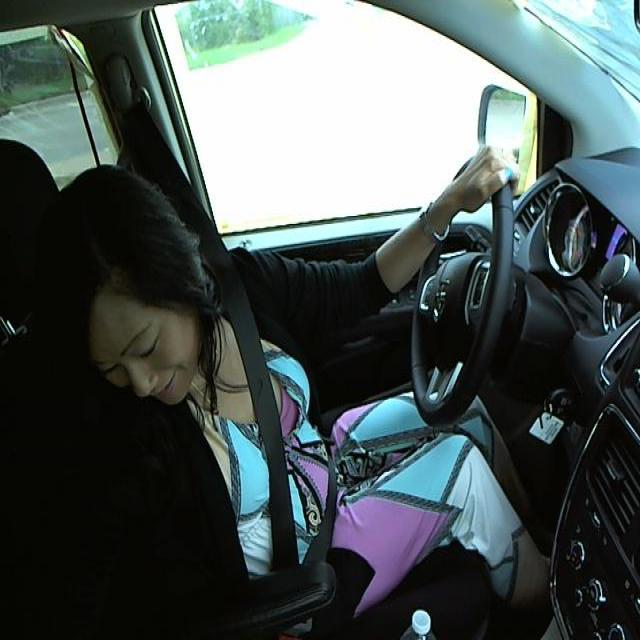seatbelt: (217, 308, 337, 567)
